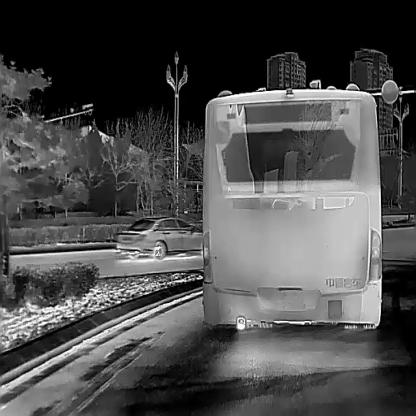bus: (201, 86, 381, 332)
car: (114, 214, 211, 259)
